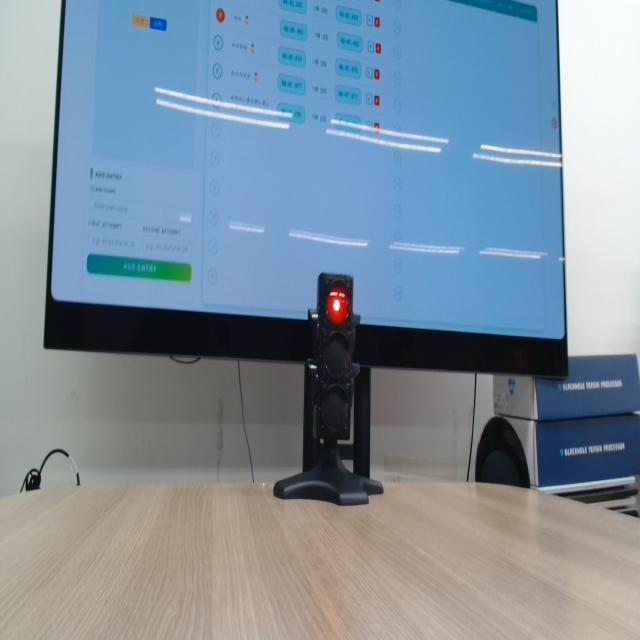red_light: (327, 285, 349, 326)
